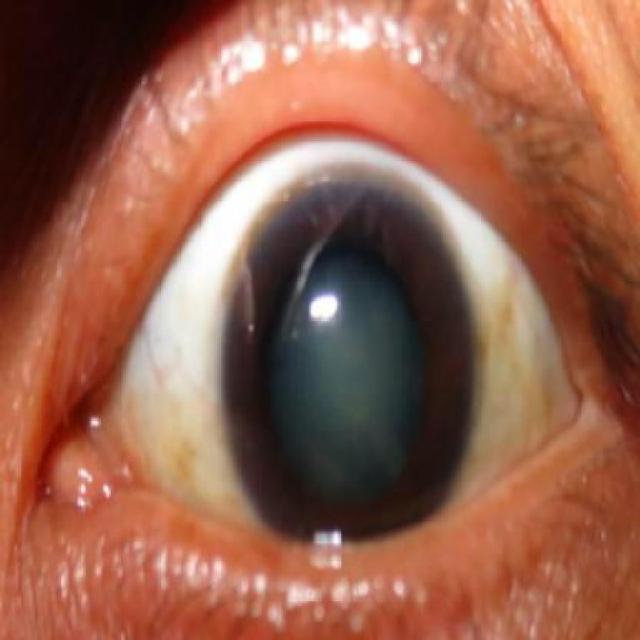Cataract: (213, 160, 478, 570)
